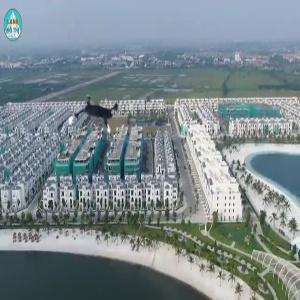drone: (65, 82, 133, 150)
